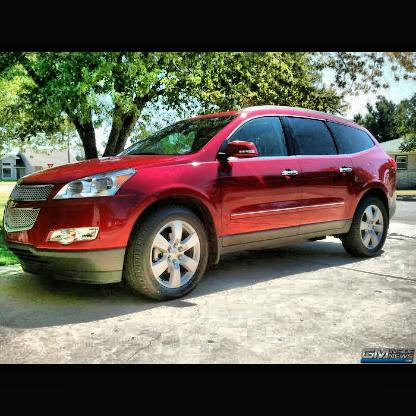Chevrolet Traverse SUV 2012: (8, 103, 400, 303)
